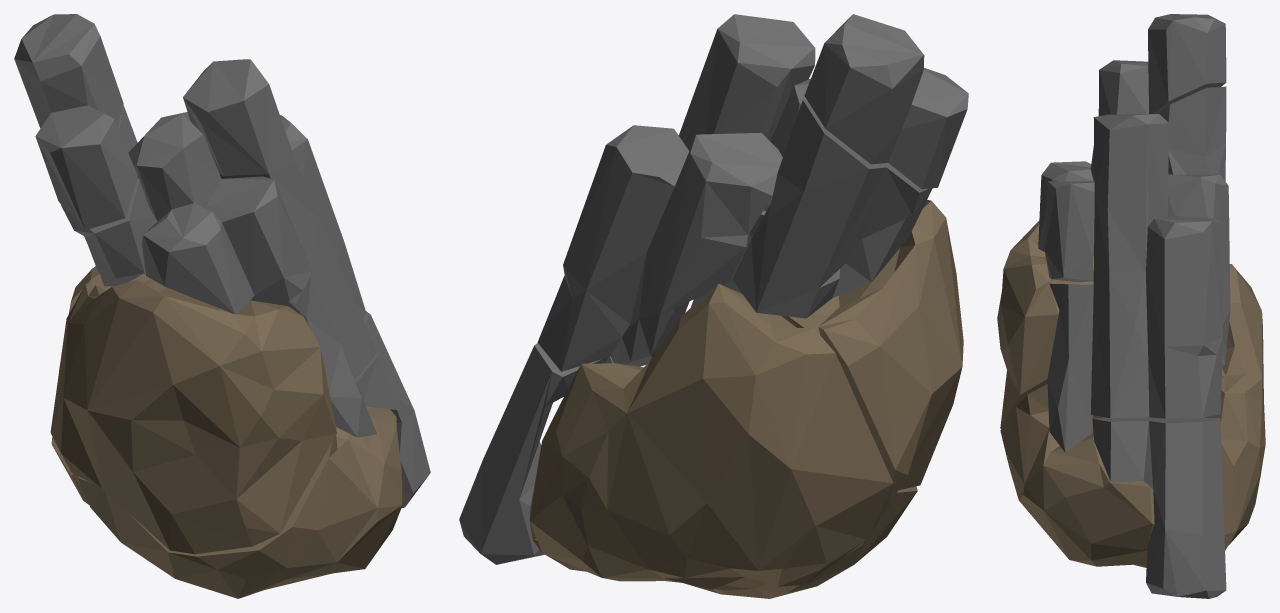
Rendered from SM_LP_Stone2_Pieces.fbx.
The picture shows the model from 3 angles, left to right: view 1: azimuth 30°, elevation 25°; view 2: azimuth 150°, elevation 25°; view 3: azimuth 270°, elevation 25°; orthographic projection. The views are drawn at different scales.
Visible parts, largest first — view 1: SM_LP_Stone2_Pieces_3, SM_LP_Stone2_Pieces_4, SM_LP_Stone2_Pieces_7, SM_LP_Stone2_Pieces_6, SM_LP_Stone2_Pieces_1, SM_LP_Stone2_Pieces_9, SM_LP_Stone2_Pieces_2, SM_LP_Stone2_Pieces_8, SM_LP_Stone2_Pieces_5; view 2: SM_LP_Stone2_Pieces_5, SM_LP_Stone2_Pieces_6, SM_LP_Stone2_Pieces_3, SM_LP_Stone2_Pieces_2, SM_LP_Stone2_Pieces_1, SM_LP_Stone2_Pieces_9, SM_LP_Stone2_Pieces_7, SM_LP_Stone2_Pieces_4; view 3: SM_LP_Stone2_Pieces_6, SM_LP_Stone2_Pieces_9, SM_LP_Stone2_Pieces_7, SM_LP_Stone2_Pieces_5, SM_LP_Stone2_Pieces_1, SM_LP_Stone2_Pieces_3, SM_LP_Stone2_Pieces_8, SM_LP_Stone2_Pieces_4, SM_LP_Stone2_Pieces_2.
Boxes of the visible parts, x1,y1,x2,y2 form: SM_LP_Stone2_Pieces_3: (50,280,336,554); SM_LP_Stone2_Pieces_4: (128,114,311,314); SM_LP_Stone2_Pieces_7: (78,406,403,598); SM_LP_Stone2_Pieces_6: (166,59,376,379); SM_LP_Stone2_Pieces_1: (14,14,137,230); SM_LP_Stone2_Pieces_9: (355,311,430,507); SM_LP_Stone2_Pieces_2: (60,105,157,286); SM_LP_Stone2_Pieces_8: (288,275,376,437); SM_LP_Stone2_Pieces_5: (51,266,230,504); SM_LP_Stone2_Pieces_5: (529,283,893,589); SM_LP_Stone2_Pieces_6: (537,14,815,371); SM_LP_Stone2_Pieces_3: (781,200,963,498); SM_LP_Stone2_Pieces_2: (732,100,932,318); SM_LP_Stone2_Pieces_1: (804,14,968,189); SM_LP_Stone2_Pieces_9: (459,343,649,564); SM_LP_Stone2_Pieces_7: (543,486,917,598); SM_LP_Stone2_Pieces_4: (763,78,810,211); SM_LP_Stone2_Pieces_6: (1090,114,1230,418); SM_LP_Stone2_Pieces_9: (1092,417,1226,598); SM_LP_Stone2_Pieces_7: (1000,384,1154,567); SM_LP_Stone2_Pieces_5: (1204,264,1265,550); SM_LP_Stone2_Pieces_1: (1098,14,1226,115); SM_LP_Stone2_Pieces_3: (997,221,1093,428); SM_LP_Stone2_Pieces_8: (1047,283,1093,452); SM_LP_Stone2_Pieces_4: (1038,144,1094,282); SM_LP_Stone2_Pieces_2: (1158,86,1226,181).
Size of the model in its own units: 1.07 by 1.41 by 0.7303.
